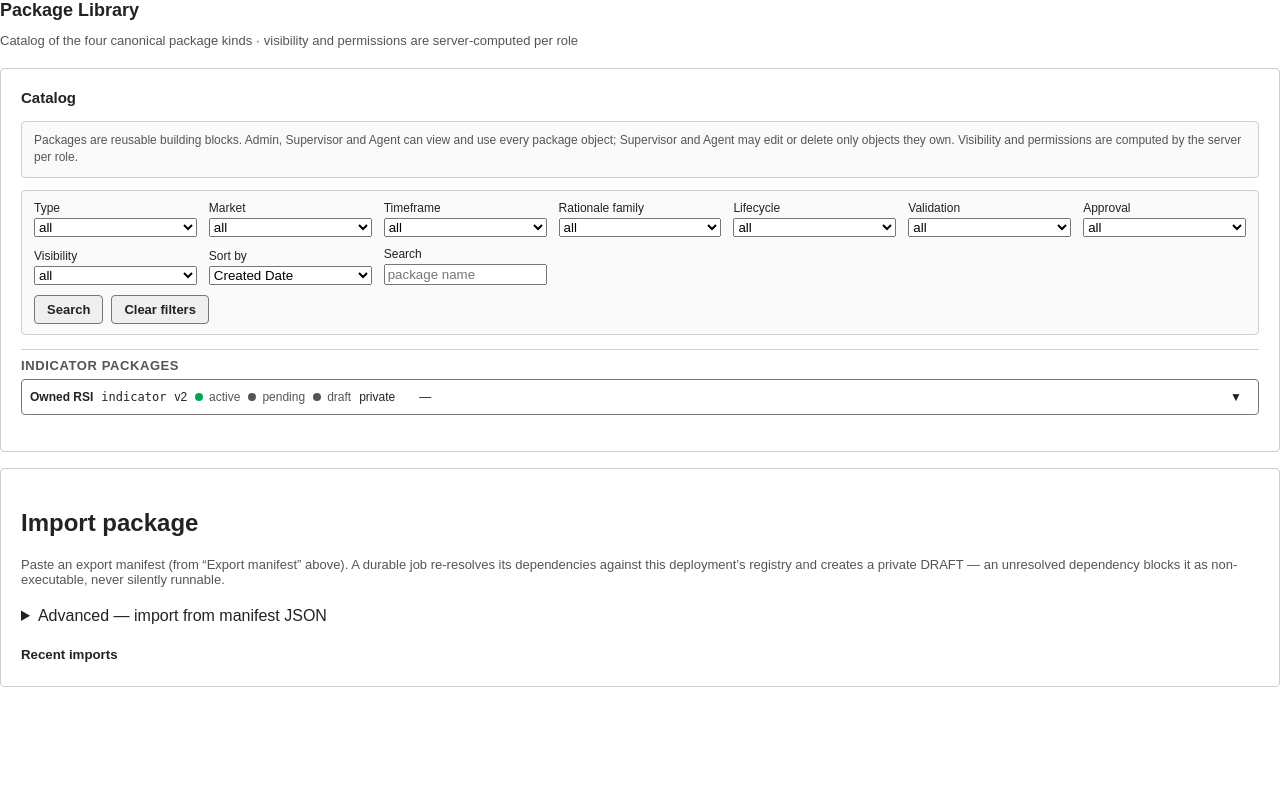
Test case: Package Library — Request Validation (G-04) › surfaces the queued admission's run, request and job identifiers
Expected: the text "Owned RSI" is shown, [30,390,93,404]
Click the button named "Detail": click(1236, 397) [1222,383,1250,411]
(page scrolled)
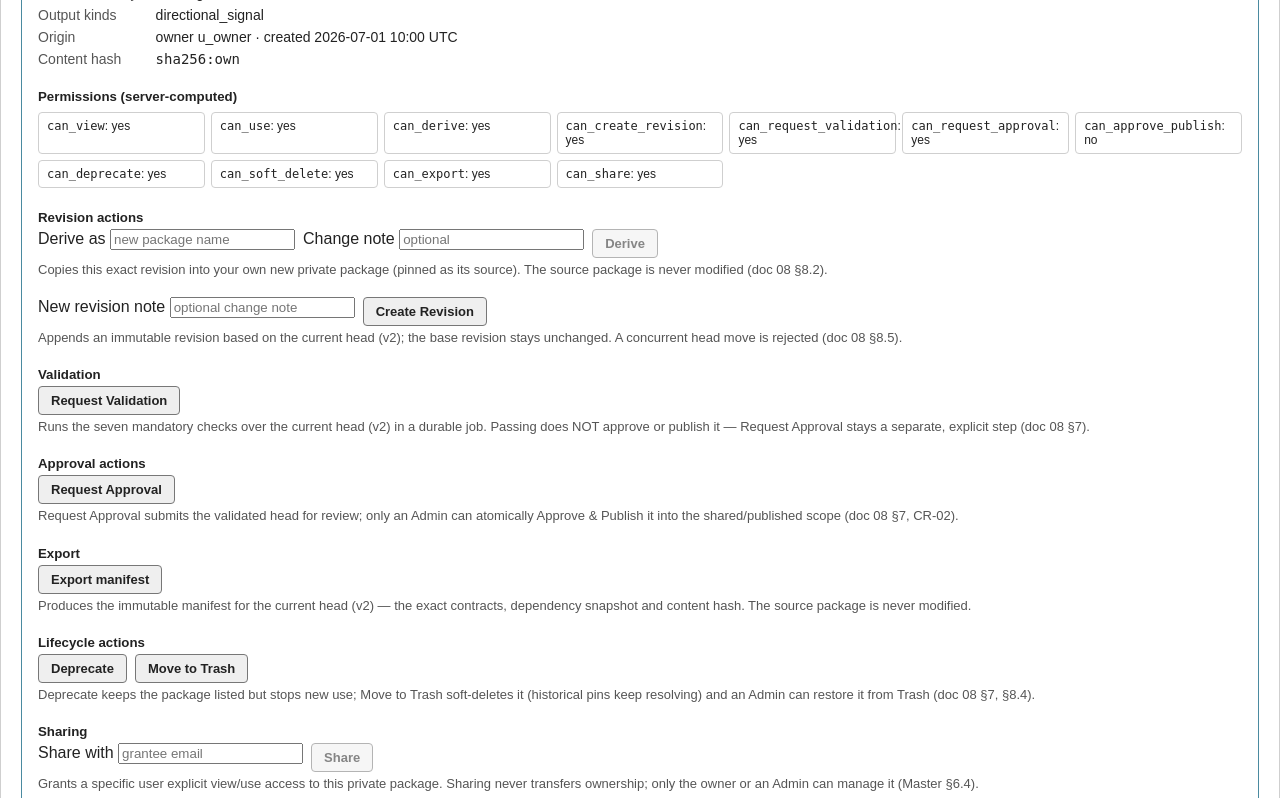
Expected: the heading "Lifecycle actions" is shown, [38,635,145,650]
Click the button "Request Validation": click(109, 401) [38,386,180,415]
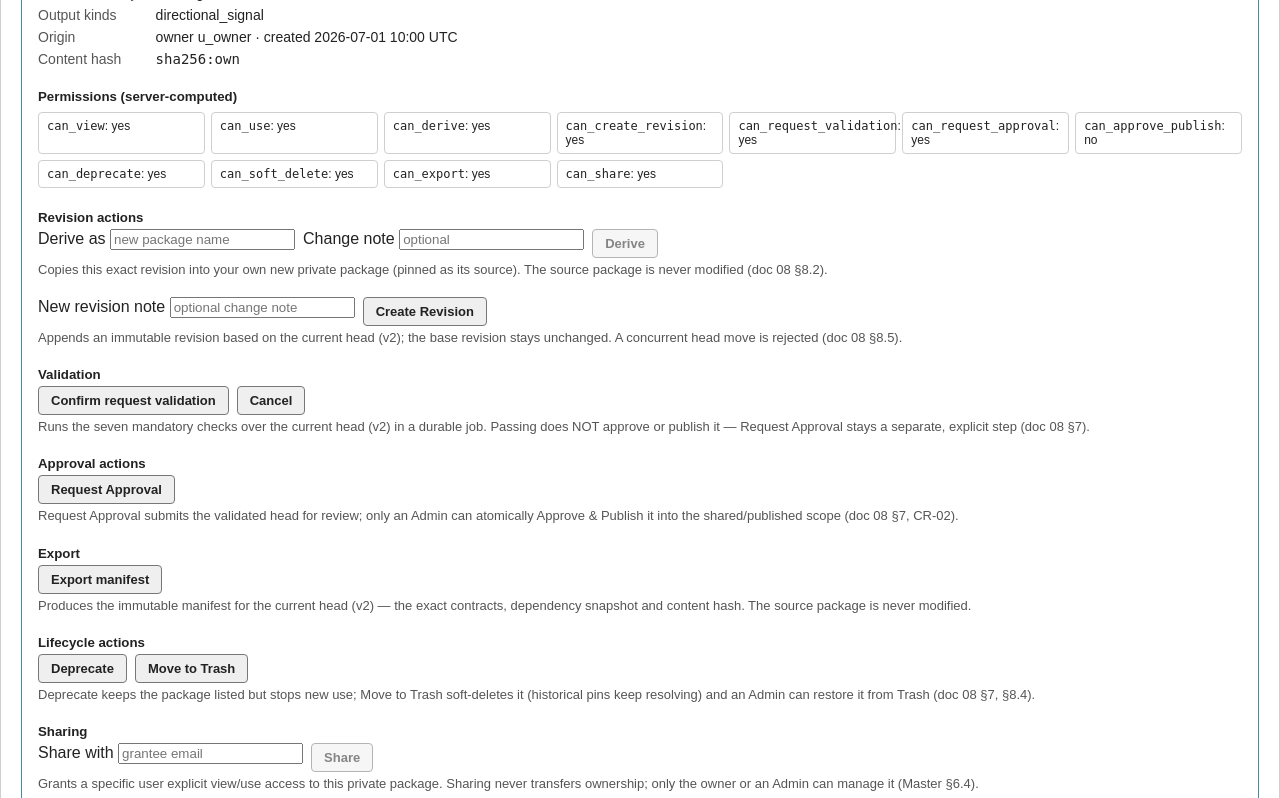
Click the button "Confirm request validation": click(133, 401) [38,386,229,415]
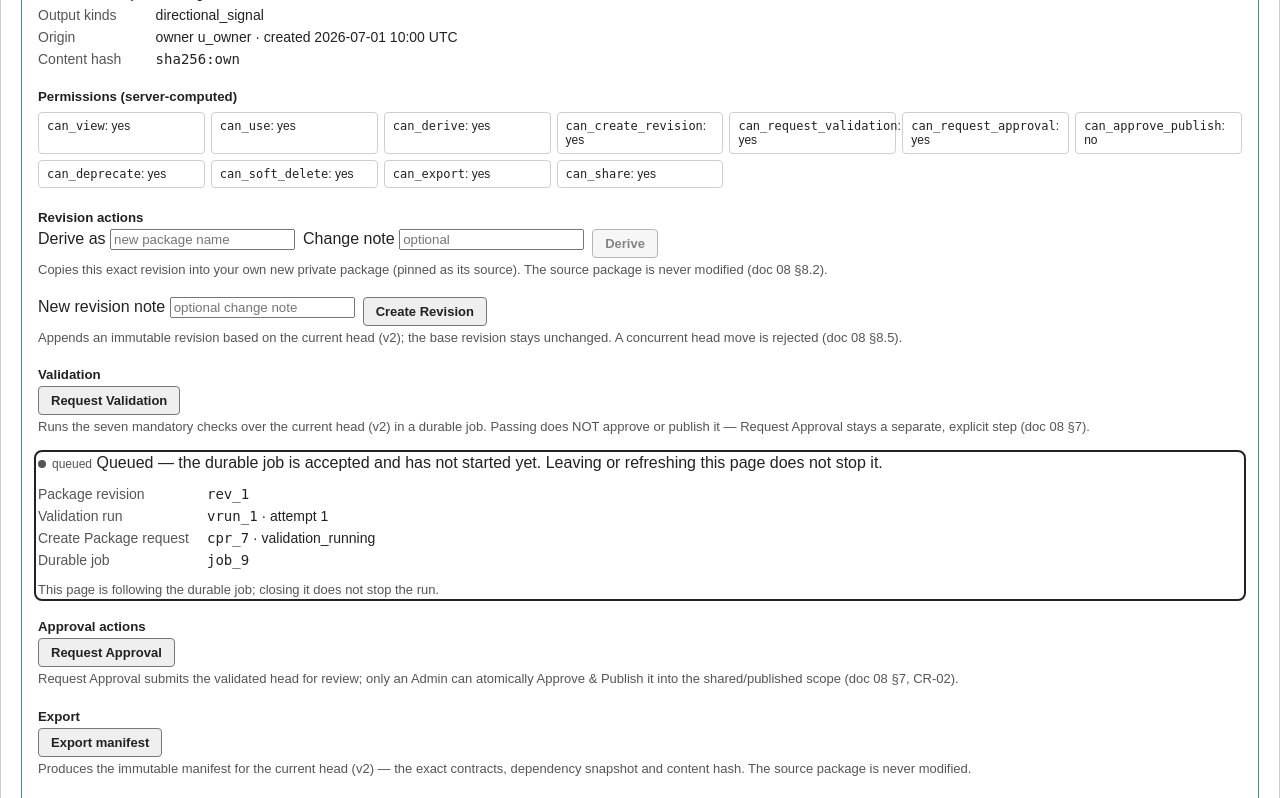
Expected: the message named "Validation run status" shows "queued", [52,457,92,471]
Expected: the message named "Validation run status" shows "vrun_1", [207,508,258,524]
Expected: the message named "Validation run status" shows "cpr_7", [207,530,249,546]
